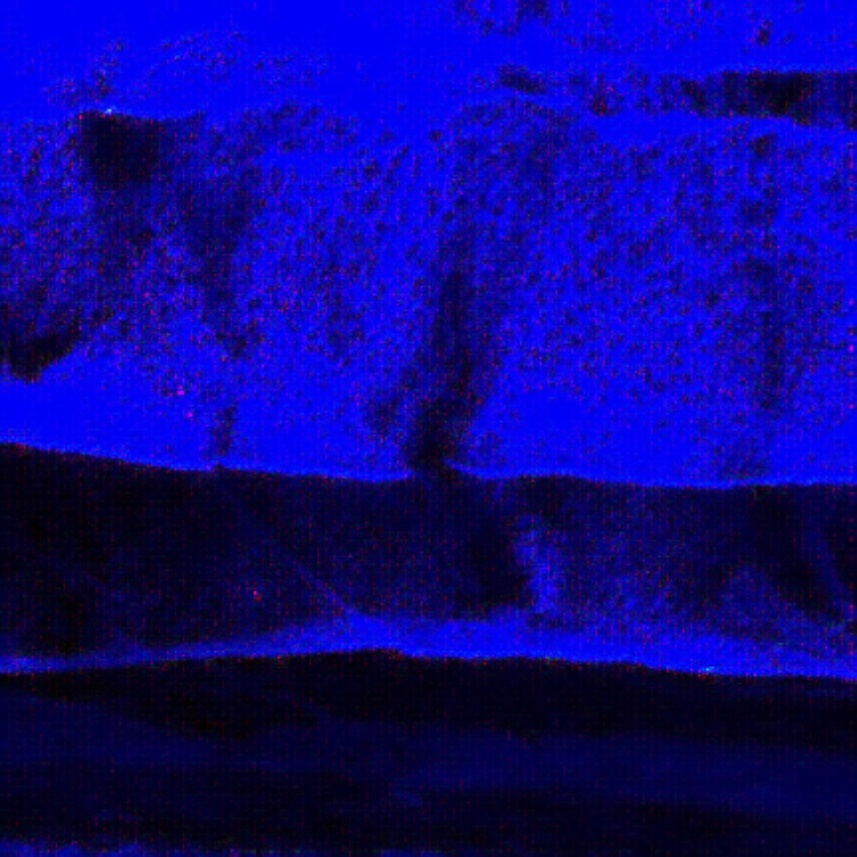rip_current: (352, 88, 580, 618)
